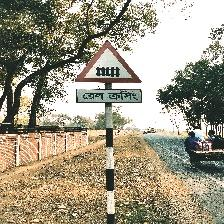Rail-crossing: (74, 41, 143, 104)
